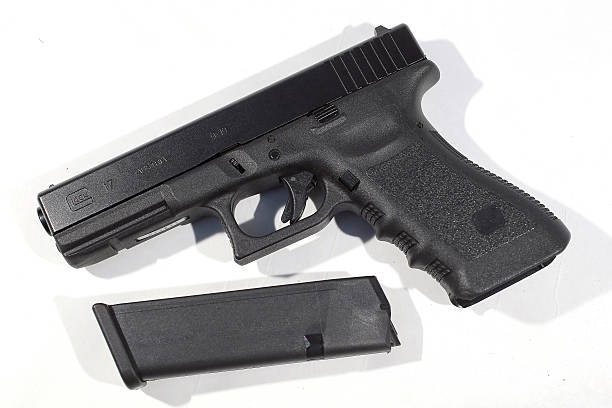pistol: (32, 21, 573, 306)
